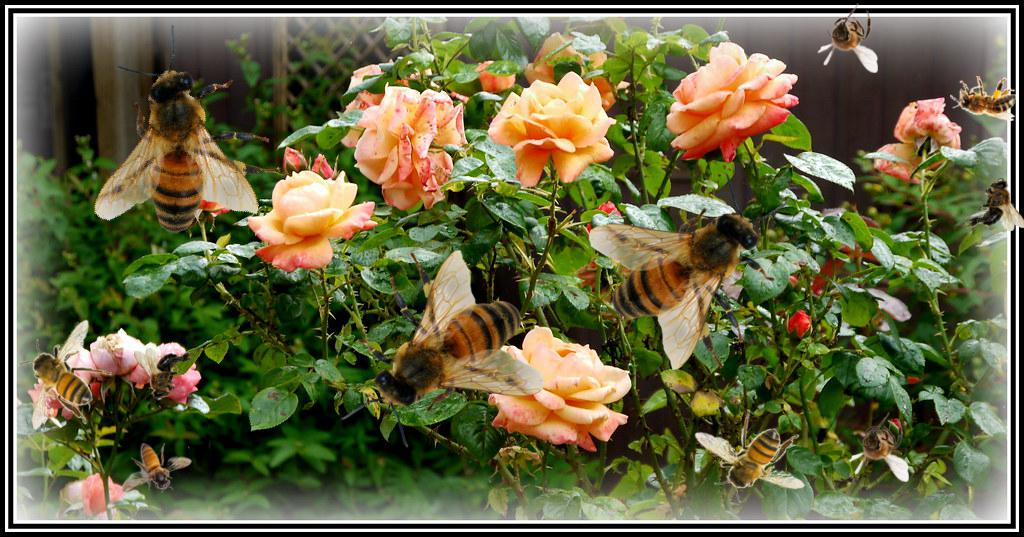Bee: (42, 9, 319, 287), (588, 171, 792, 370), (341, 250, 545, 449), (694, 409, 805, 503), (18, 319, 112, 430), (817, 3, 878, 73), (848, 412, 909, 482), (121, 443, 192, 493), (134, 348, 196, 401), (964, 178, 1024, 231), (950, 76, 1016, 121)
